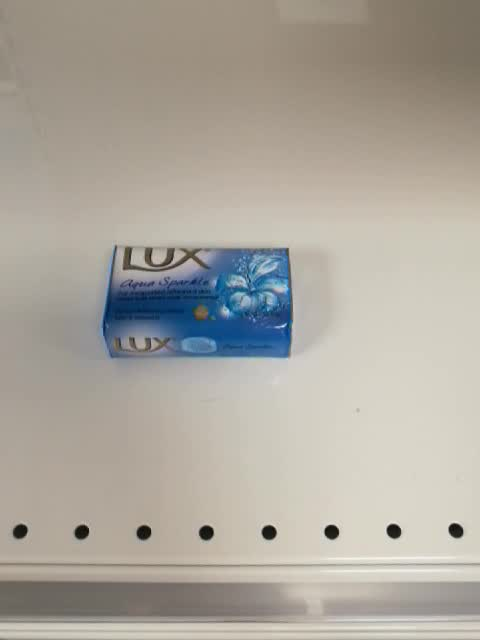soap: (102, 243, 295, 360)
